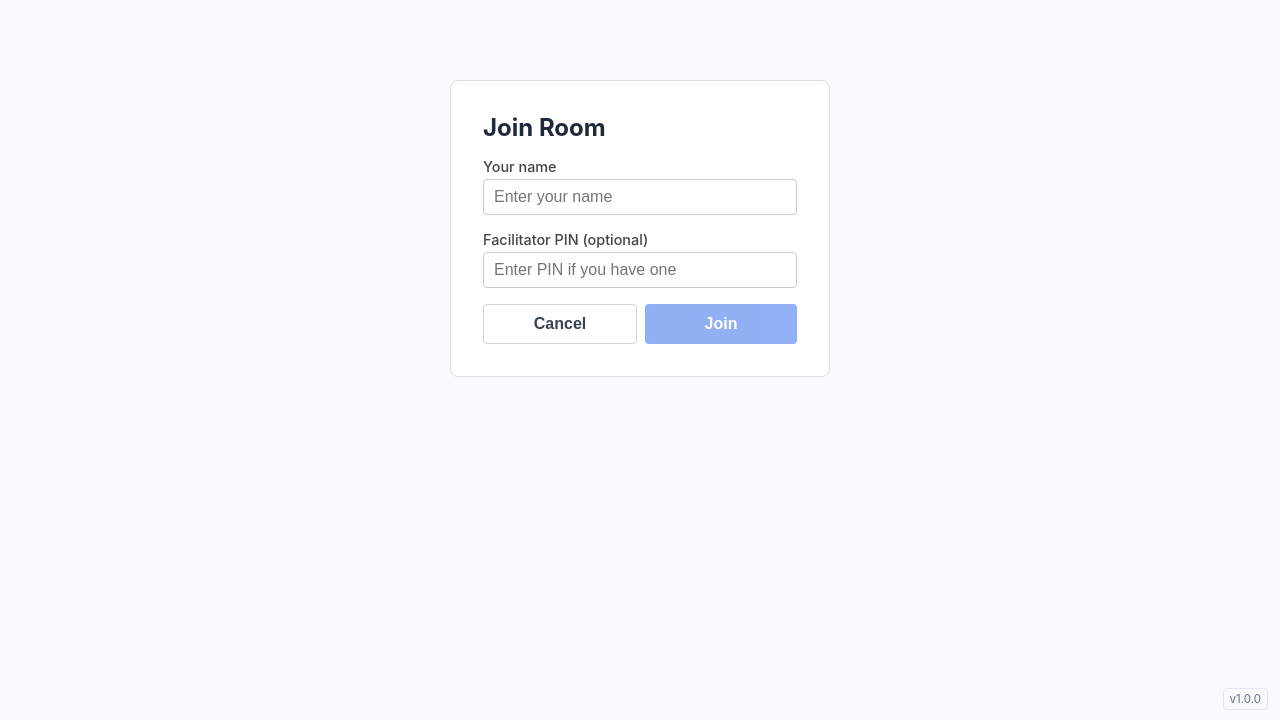
Test: App.svelte page state machine › runs the direct-link flow after room state arrives without a pending name
This screenshot has width=1280, height=720.
Check: the heading "Join Room" is shown, box [483, 113, 606, 142]
Type "Alice" into the field with placeholder "Enter your name" at (640, 197), box [483, 179, 797, 215]
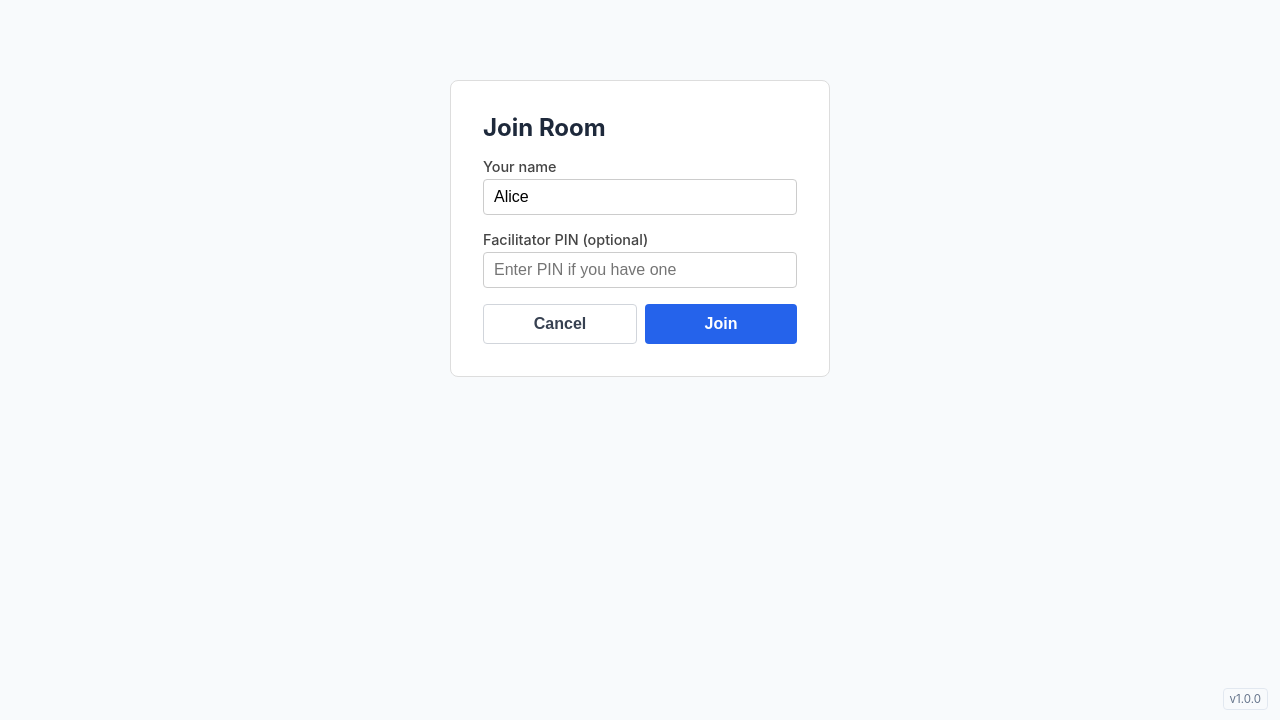
Type "admin-pin" into the field with placeholder "Enter PIN if you have one" at (640, 270), box [483, 252, 797, 288]
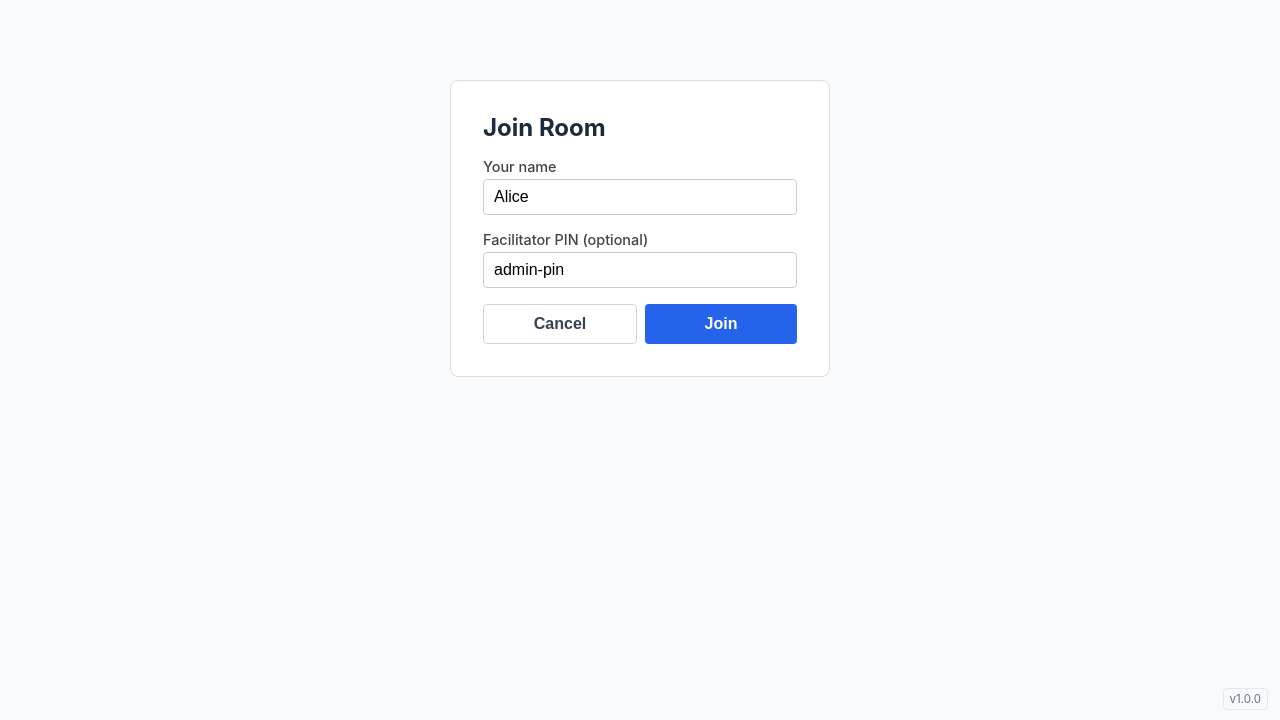
Click the button "Join" at (721, 324), box [645, 304, 797, 344]
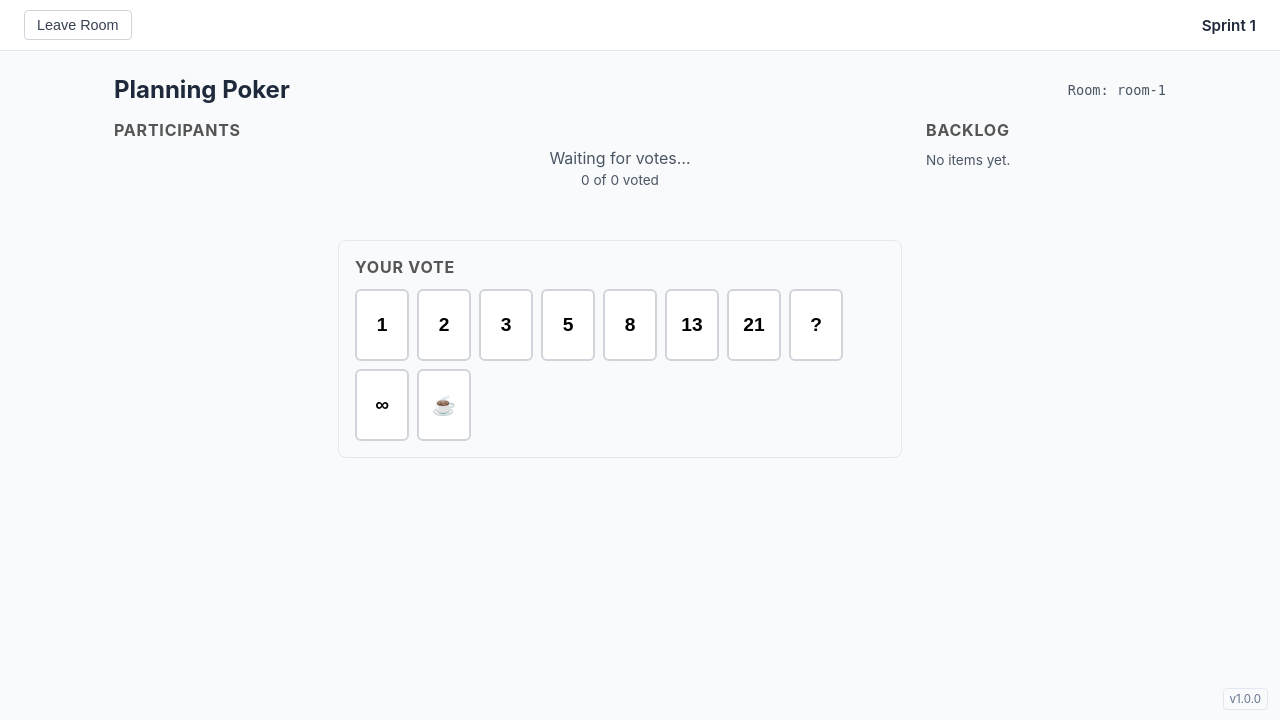
Check: the button "Leave Room" is shown, box [24, 10, 132, 40]
